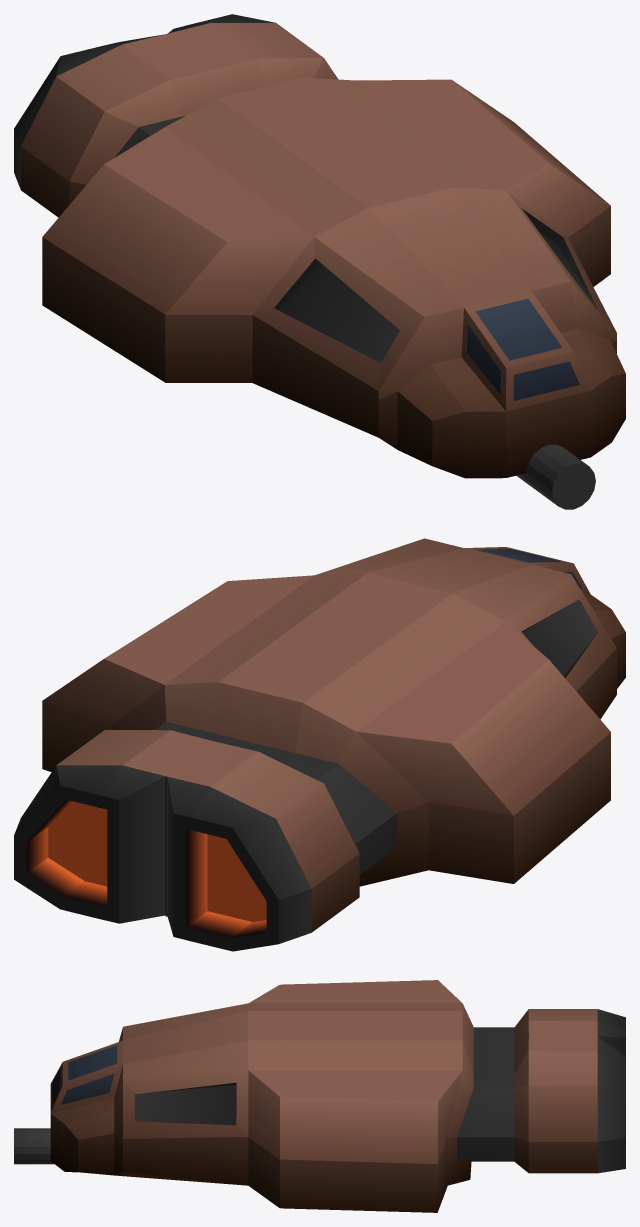
File: interceptor.glb
3 views of the same model, one above another, from view 1: azimuth 30°, elevation 25°; view 2: azimuth 150°, elevation 25°; view 3: azimuth 270°, elevation 25° (orthographic). The views are drawn at different scales.
Parts seen in each view (by area): view 1: Hull, Gun; view 2: Hull; view 3: Hull, Gun.
Boxes of the visible parts, left/top/right/bottom form: Hull: left=14, top=14, right=625, bottom=478; Gun: left=516, top=444, right=595, bottom=509; Hull: left=14, top=538, right=625, bottom=951; Hull: left=50, top=980, right=625, bottom=1212; Gun: left=14, top=1128, right=54, bottom=1164.
Size of what is drawn, in the model's own units: 3.63 by 1.41 by 5.69.
1 material, 1 textured.
